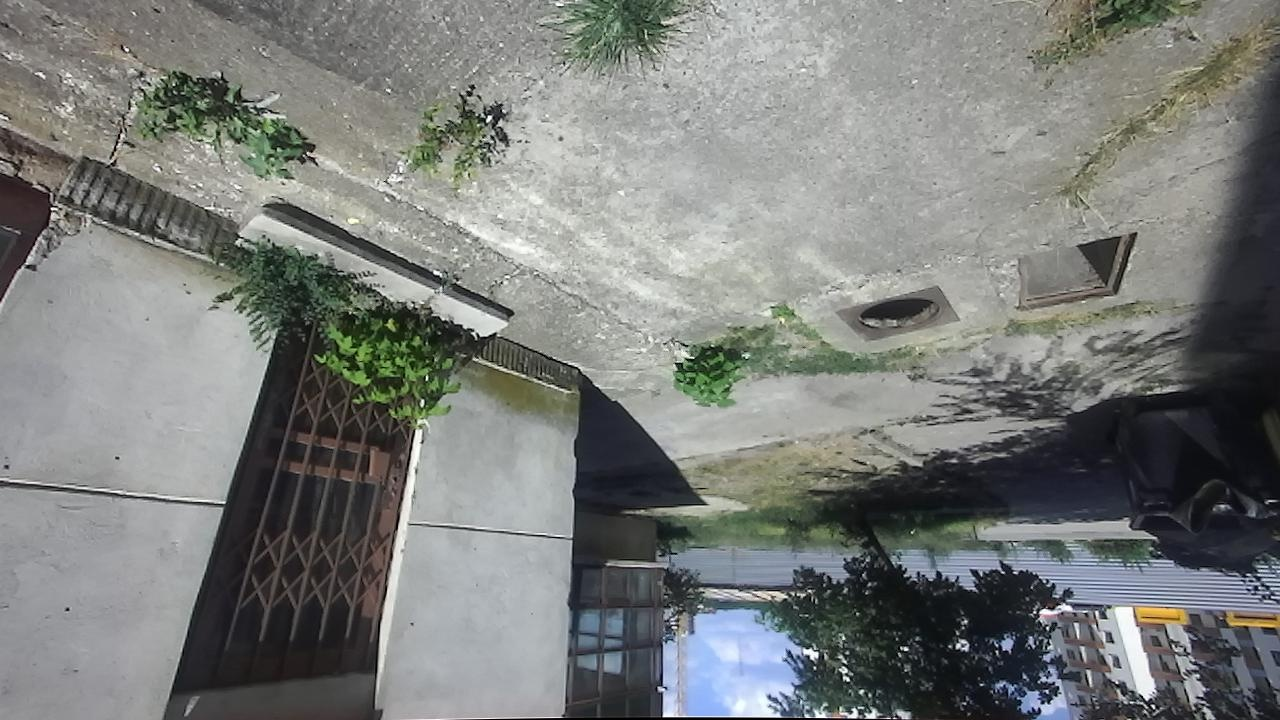drain: (1014, 227, 1142, 313), (852, 295, 945, 335)
